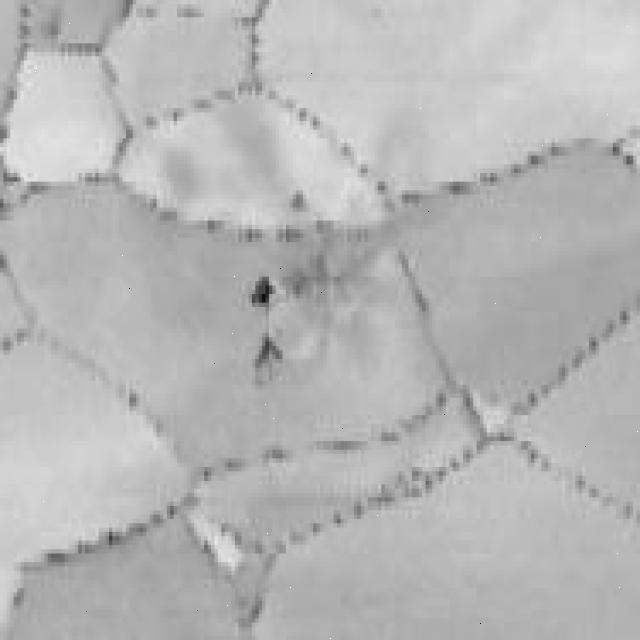good_void: (245, 272, 278, 309), (254, 335, 284, 373), (284, 186, 308, 213)
